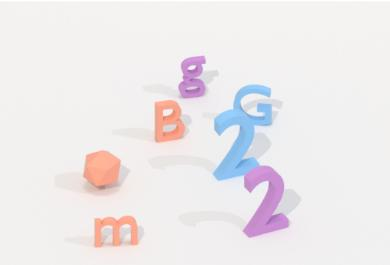0-TronCanh: (79, 145, 125, 193)
2: (241, 164, 294, 242), (209, 109, 258, 183)
B: (151, 96, 187, 145)
G: (232, 78, 275, 131)
g: (175, 51, 212, 101)
m: (89, 209, 142, 252)
